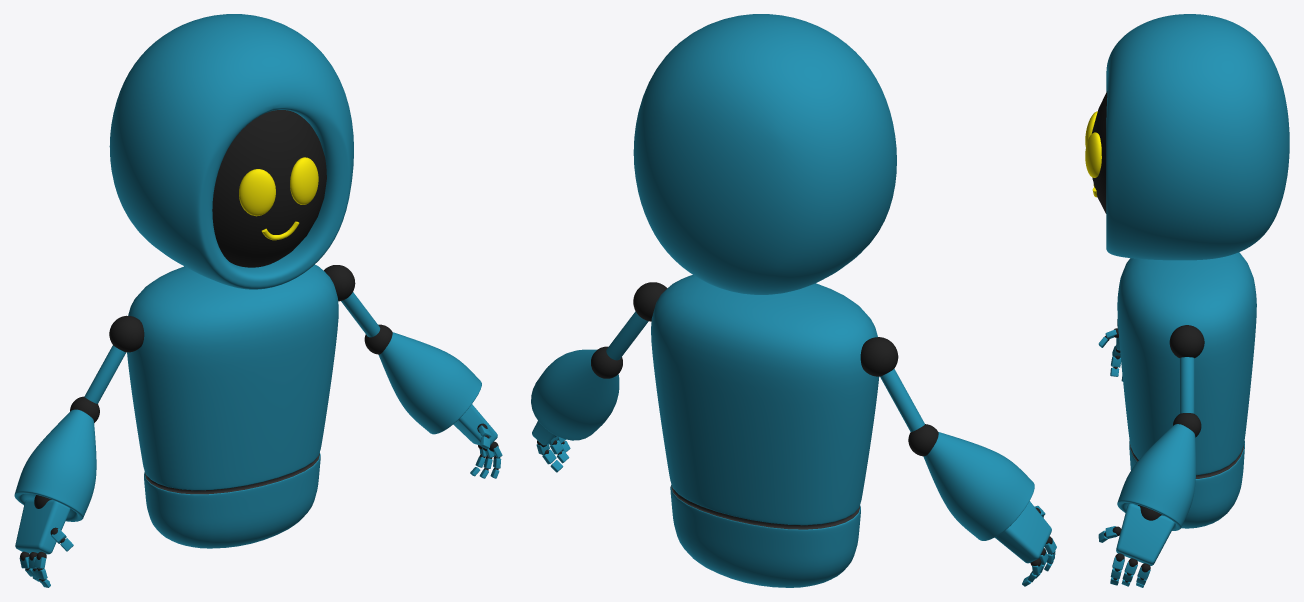
3 views of the same model, side by side, from view 1: azimuth 30°, elevation 25°; view 2: azimuth 150°, elevation 25°; view 3: azimuth 270°, elevation 25° (orthographic). The views are drawn at different scales.
Parts seen in each view (by area): view 1: body, head, Cube.001, Sphere.013, Cube.002, Sphere.014, Sphere, arms, Sphere.001; view 2: head, body, Cube.001, Cube.002, Sphere, arms, Sphere.001; view 3: head, body, Cube.001, Cube.002, Sphere.013, Sphere, arms, Sphere.014, Sphere.001.
Boxes of the visible parts, box(x1,y1,x2,y2) form: body: box(127, 264, 338, 548); head: box(109, 14, 353, 289); Cube.001: box(14, 332, 481, 521); Sphere.013: box(212, 110, 326, 267); Cube.002: box(15, 404, 497, 554); Sphere.014: box(239, 157, 318, 216); Sphere: box(109, 265, 355, 352); arms: box(84, 292, 380, 403); Sphere.001: box(70, 324, 392, 422); head: box(633, 14, 896, 294); body: box(651, 275, 879, 587); Cube.001: box(531, 349, 1034, 540); Cube.002: box(532, 421, 1051, 563); Sphere: box(633, 282, 898, 376); arms: box(606, 311, 924, 431); Sphere.001: box(591, 346, 938, 456); head: box(1106, 14, 1289, 260); body: box(1117, 252, 1256, 528); Cube.001: box(1117, 319, 1195, 530); Cube.002: box(1116, 337, 1174, 565); Sphere.013: box(1091, 91, 1107, 213); Sphere: box(1169, 325, 1204, 358); arms: box(1179, 357, 1194, 413); Sphere.014: box(1085, 111, 1101, 177); Sphere.001: box(1173, 413, 1201, 437).
Size of the model in its own units: 7.65 by 7.92 by 3.03.
